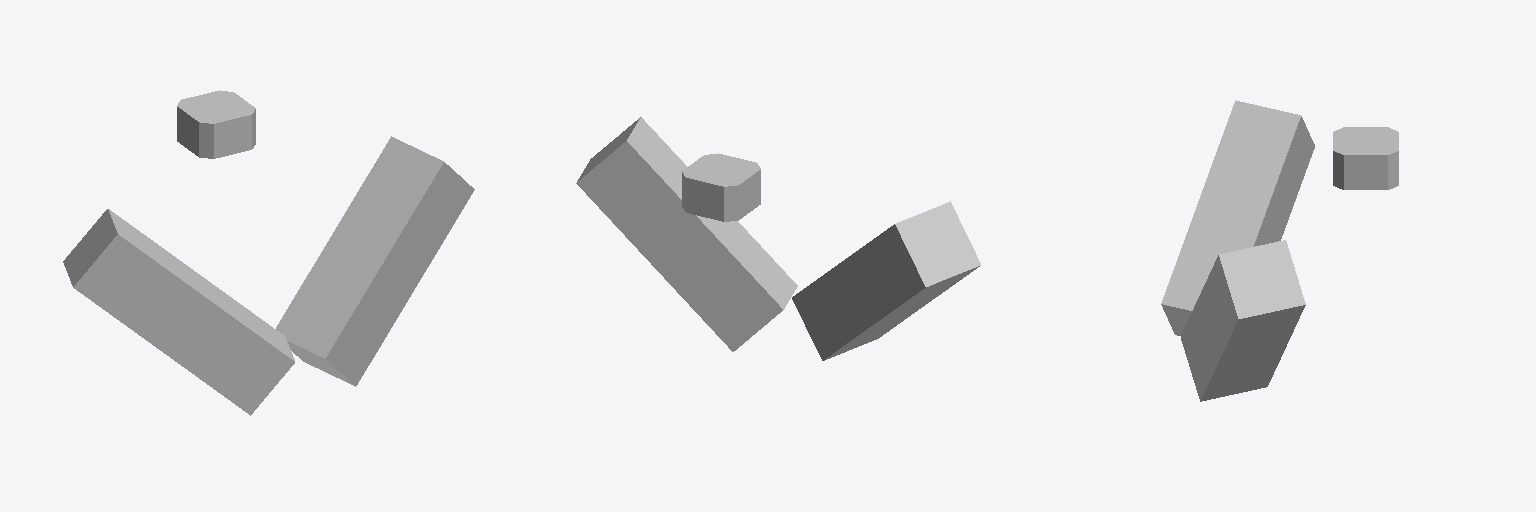
The model's file is hands_crossed.obj.
The picture shows the model from 3 angles: view 1: azimuth 30°, elevation 25°; view 2: azimuth 150°, elevation 25°; view 3: azimuth 270°, elevation 25°; orthographic projection.
Visible parts, largest first — view 1: hands_crossed_Cube.000; view 2: hands_crossed_Cube.000; view 3: hands_crossed_Cube.000.
Boxes of the visible parts, box(x1,y1,x2,y2) form: hands_crossed_Cube.000: box(63, 90, 474, 415); hands_crossed_Cube.000: box(576, 117, 980, 360); hands_crossed_Cube.000: box(1161, 100, 1398, 401).
Size of the model in its own units: 2.64 by 1.48 by 1.37.